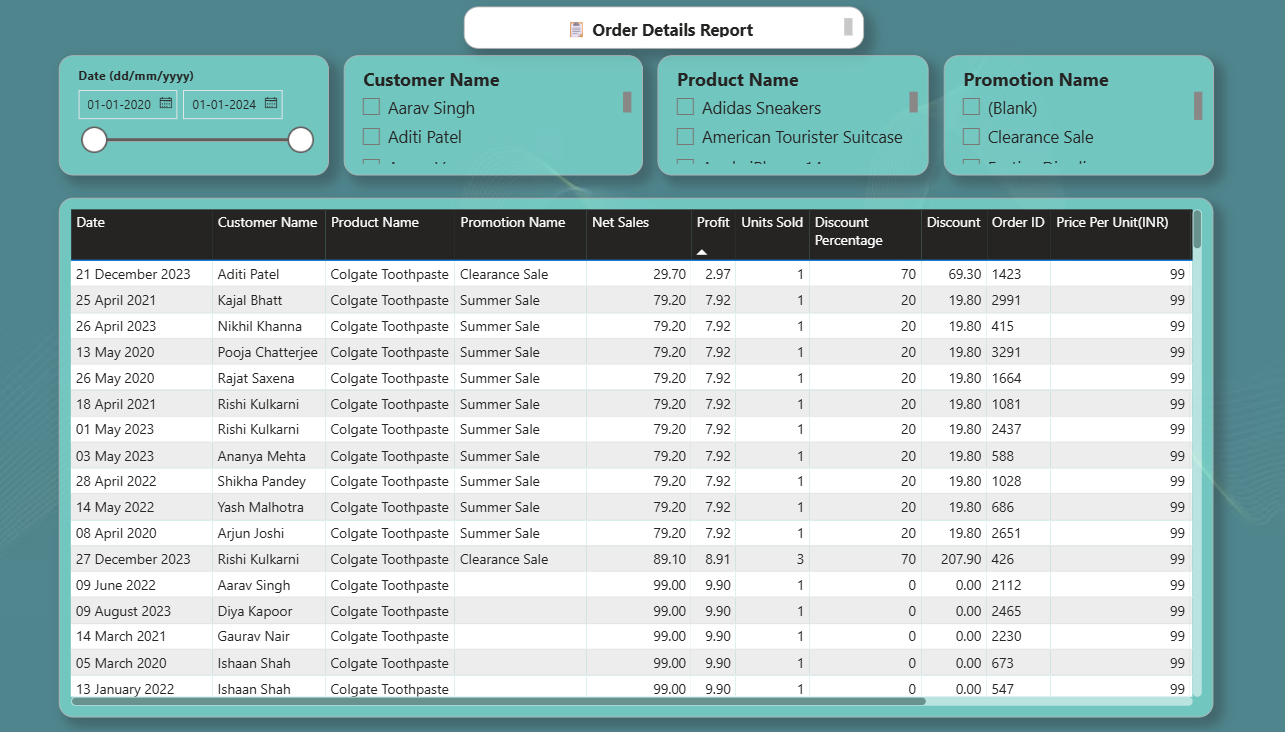

Layout of this report page (visuals, bound fields, positions):
{"tool":"powerbi","page":{"name":"Order Details Report","canvas":[1280,720],"ordinal":3},"visuals":[{"type":"textbox","box":[457.2,12.1,386.1,41],"z":0},{"type":"slicer","fields":{"Values":["Fact Table.Date (dd/mm/yyyy)"]},"box":[66.8,59.2,260.5,116.2],"z":1000},{"type":"slicer","fields":{"Values":["Dim Customers.Customer Name"]},"box":[341.5,59.2,288.6,116.2],"z":2000},{"type":"slicer","fields":{"Values":["Dim Product.Product Name"]},"box":[644.4,59.2,261.7,116.2],"z":3000},{"type":"slicer","fields":{"Values":["Dim Promotion.Promotion Name"]},"box":[920.3,59.2,260.5,116.2],"z":4000},{"type":"tableEx","fields":{"Values":["Fact Table.Date (dd/mm/yyyy)","Dim Customers.Customer Name","Dim Product.Product Name","Dim Promotion.Promotion Name","Fact Table.Net Sales  ","Fact Table.Profit ","Fact Table.Units Sold","Fact Table.Discount Percentage","Fact Table.Discount Value","Fact Table.Order ID","Fact Table.Price Per Unit(INR)","Fact Table.PromotionID"]},"box":[66.4,196.6,1114.8,501.9],"z":5000}]}

Visuals, with their boxes in screenshot pixels (x1, y1, x2, y2), scaled from the page's 1280x720 canvas onto the 1285x732 screenshot:
textbox: {"x1": 459, "y1": 12, "x2": 847, "y2": 54}
slicer - Fact Table.Date (dd/mm/yyyy): {"x1": 67, "y1": 60, "x2": 329, "y2": 178}
slicer - Dim Customers.Customer Name: {"x1": 343, "y1": 60, "x2": 633, "y2": 178}
slicer - Dim Product.Product Name: {"x1": 647, "y1": 60, "x2": 910, "y2": 178}
slicer - Dim Promotion.Promotion Name: {"x1": 924, "y1": 60, "x2": 1185, "y2": 178}
tableEx - Fact Table.Date (dd/mm/yyyy) x Dim Customers.Customer Name: {"x1": 67, "y1": 200, "x2": 1186, "y2": 710}
